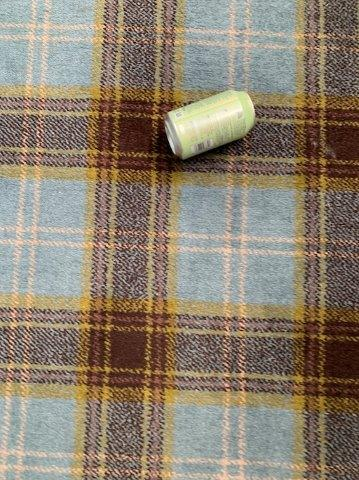kaleng: (165, 90, 255, 160)
